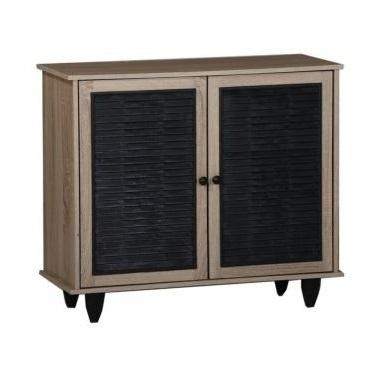cabinet_door: (82, 79, 209, 278), (207, 74, 333, 274)
handle: (210, 172, 221, 189), (198, 174, 208, 189)
